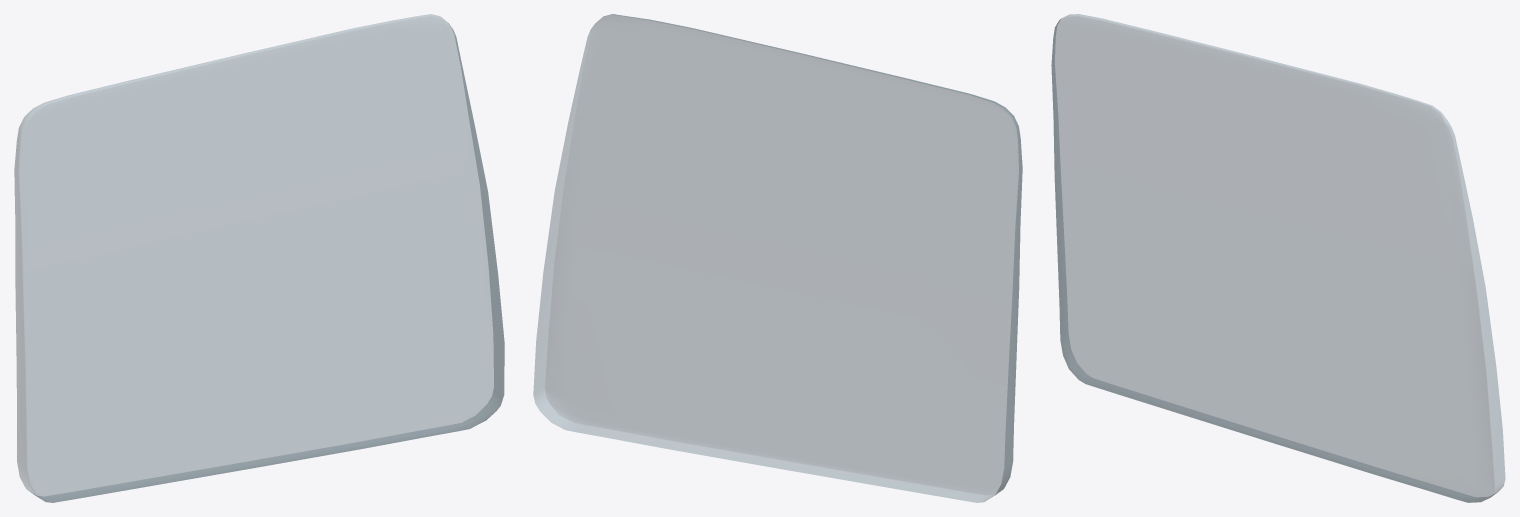
The picture shows the model from 3 angles, left to right: view 1: azimuth 30°, elevation 25°; view 2: azimuth 150°, elevation 25°; view 3: azimuth 330°, elevation 25°; orthographic projection. The views are drawn at different scales.
Parts seen in each view (by area): view 1: SM_ActrosFiretruck_Door_FL_Glass_Ext2; view 2: SM_ActrosFiretruck_Door_FL_Glass_Ext2; view 3: SM_ActrosFiretruck_Door_FL_Glass_Ext2.
Part boxes in pixels (<box>): SM_ActrosFiretruck_Door_FL_Glass_Ext2: <box>14,14,504,502</box>; SM_ActrosFiretruck_Door_FL_Glass_Ext2: <box>533,14,1022,502</box>; SM_ActrosFiretruck_Door_FL_Glass_Ext2: <box>1051,14,1505,502</box>.
Size of the model in its own units: 0.9689 by 0.8219 by 0.0448.
